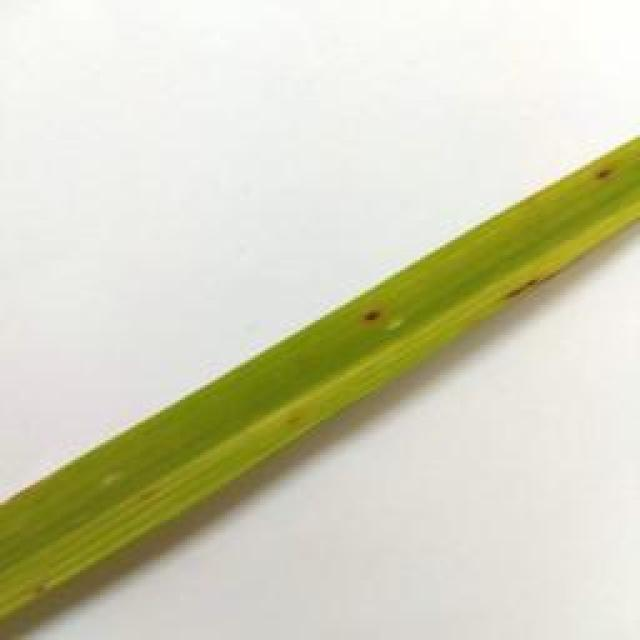Brown_Spot: (491, 274, 559, 302), (584, 166, 620, 188), (283, 406, 309, 435), (366, 302, 385, 333), (31, 584, 67, 594)
